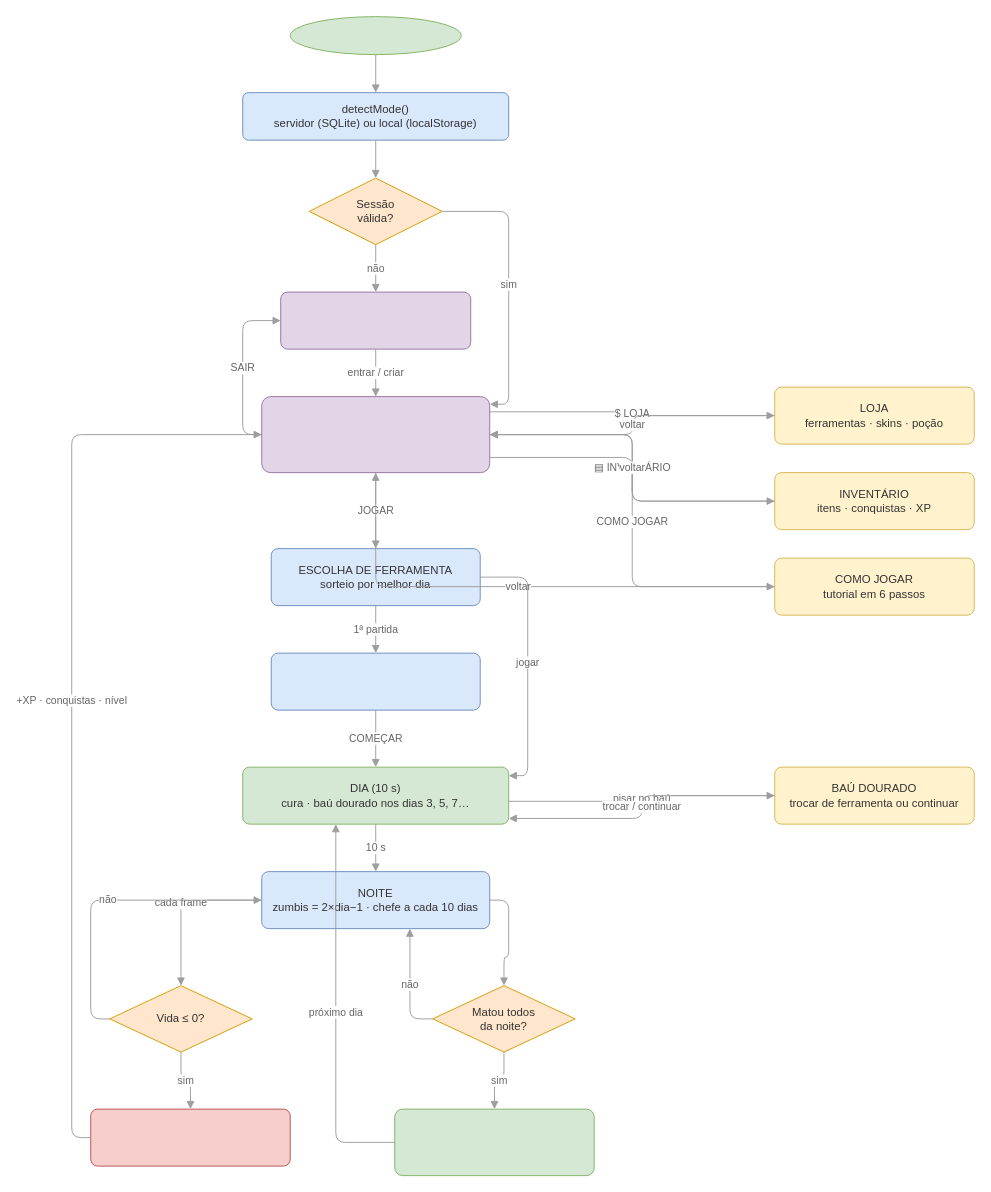
Some shapes in this 991 by 1192 pixel diagram are drawn without their labels. Here are the shapes that lost their labels. From the top down, the centre of each, then its label:
At [375,35]: "Abrir o jogo".
At [375,320]: "AUTH entrar ou criar conta".
At [375,434]: "MENU moedas · nível · título".
At [375,681]: "TUTORIAL (1ª partida) 6 passos · pausa o jogo".
At [190,1137]: "GAME OVER dia alcançado + moedas".
At [494,1142]: "Noite sobrevivida dia++ · +4 dano · +1 res · +5 moedas · +XP".
